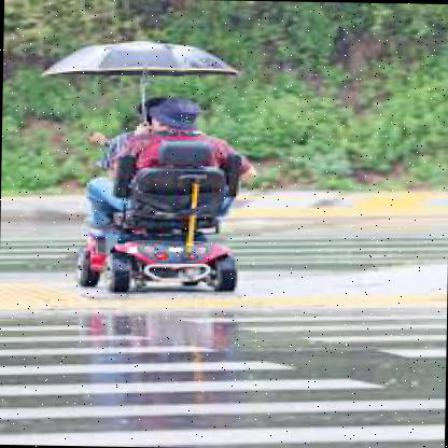wheel: (72, 99, 255, 294)
